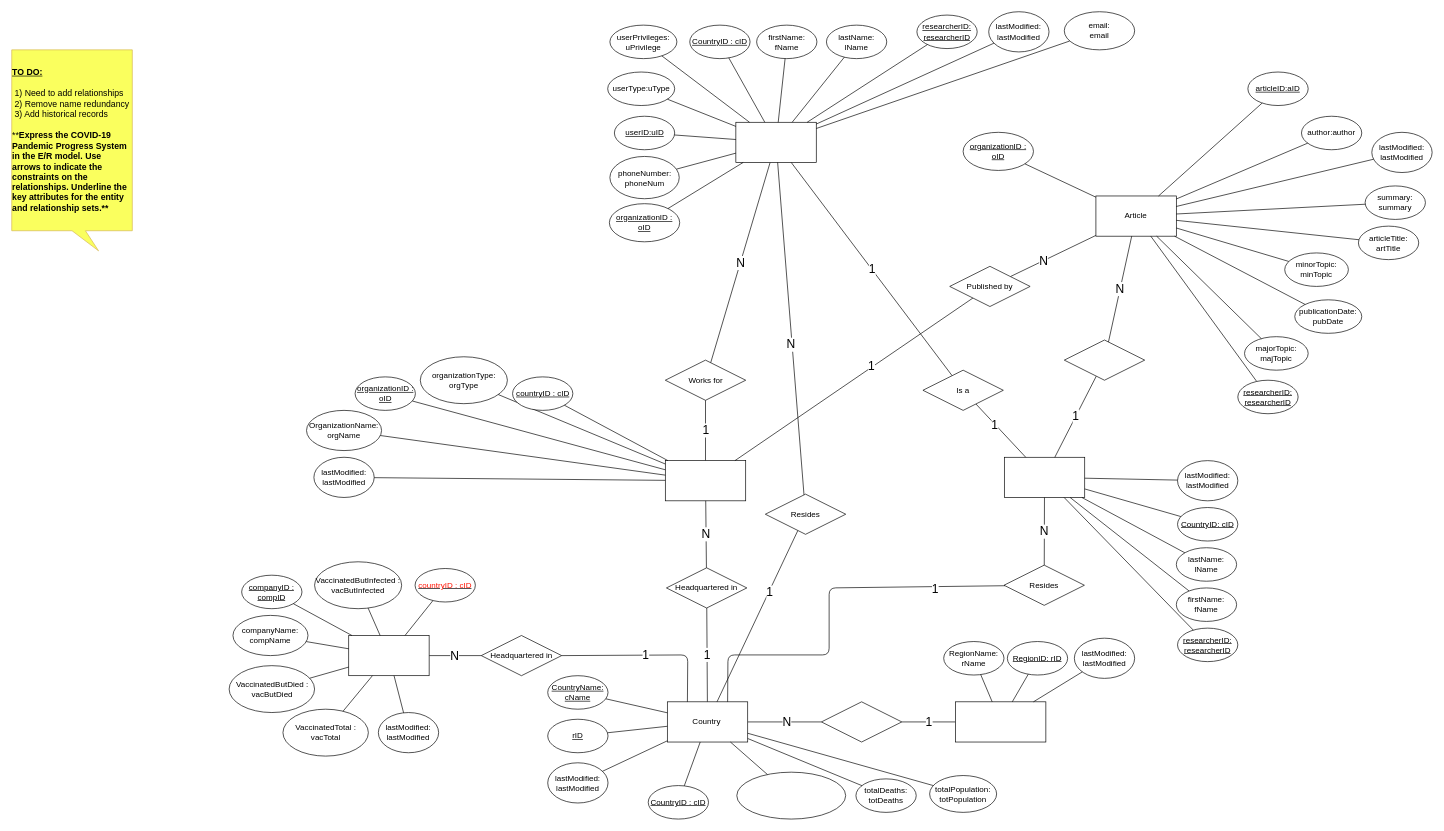
Some shapes in this 1444 by 831 pixel diagram are drawn without their labels. The centre of each missing label's shape, as x and y in pixels:
"Located in" belongs at (861,721).
"Organization" belongs at (705,480).
"Region" belongs at (1000,721).
"Researcher" belongs at (1044,477).
"totalInfectedWithoutVacine : infectedNoVaccine" belongs at (791,795).
"User" belongs at (775,142).
"VaccineCompany" belongs at (388,655).
"Written by" belongs at (1104,359).
